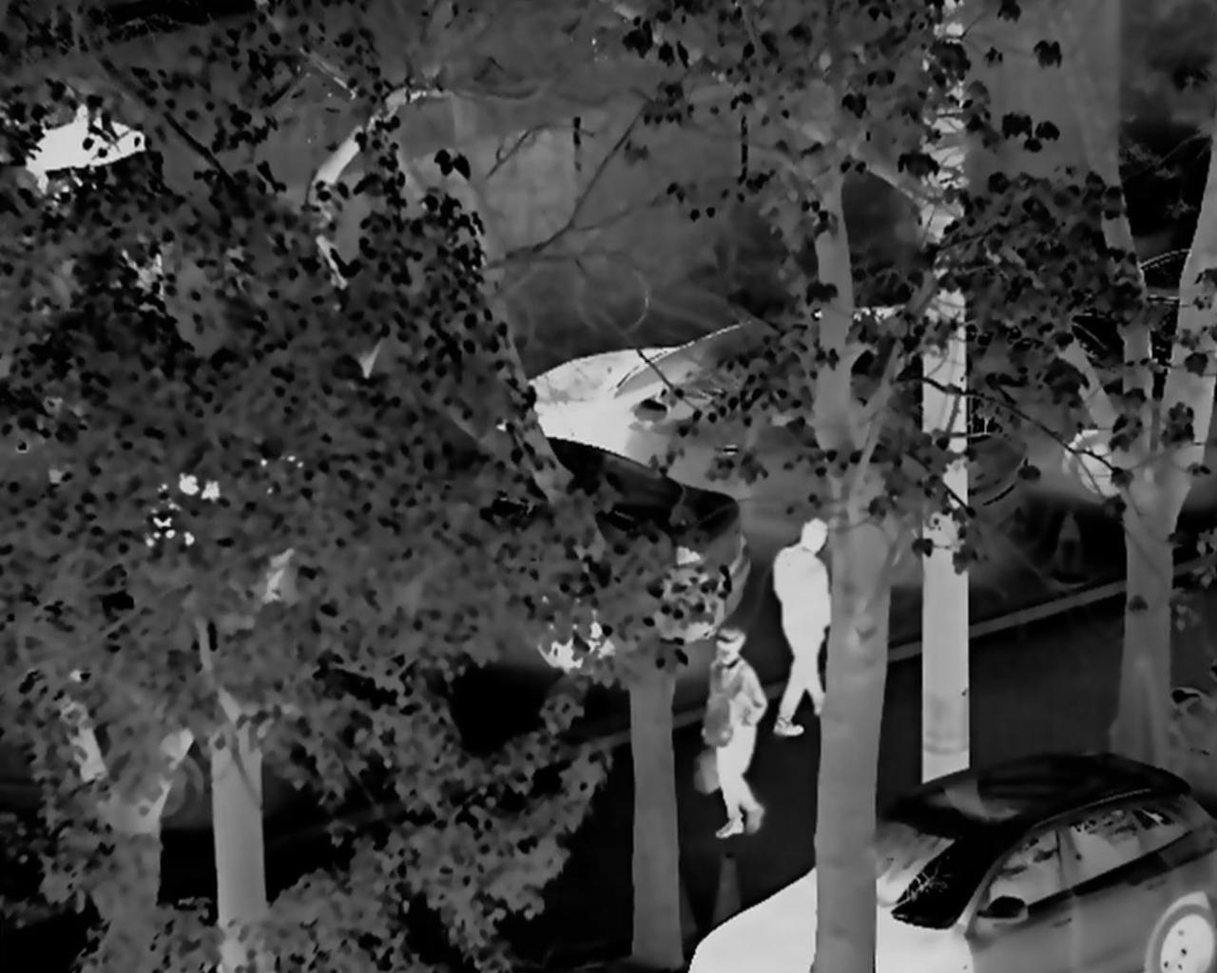person: (698, 610, 771, 843), (771, 516, 838, 744)
